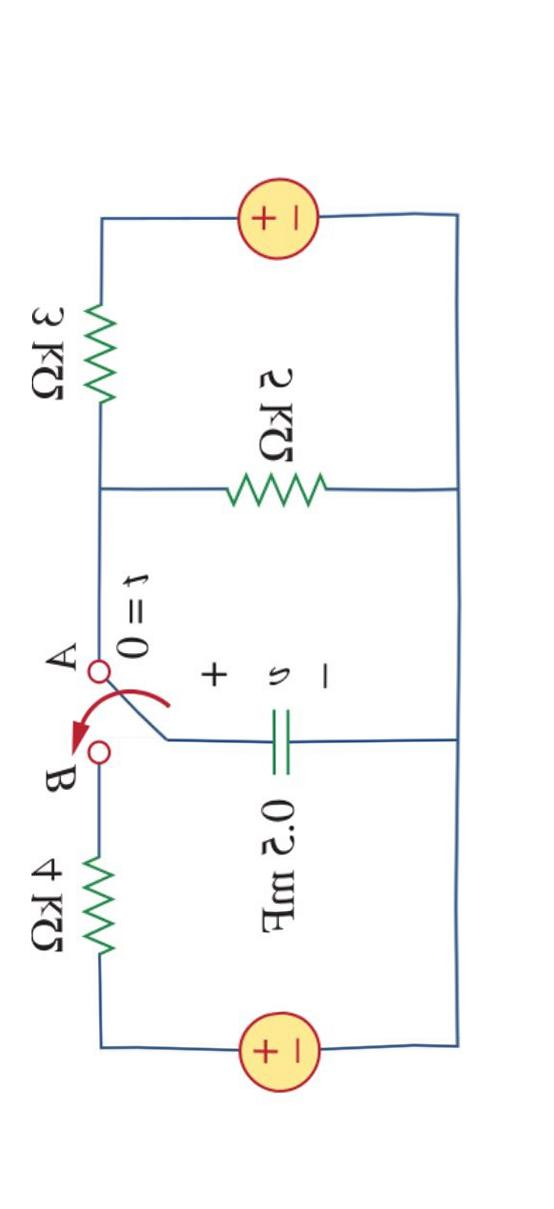Battery: (211, 985, 364, 1112), (211, 154, 351, 285)
